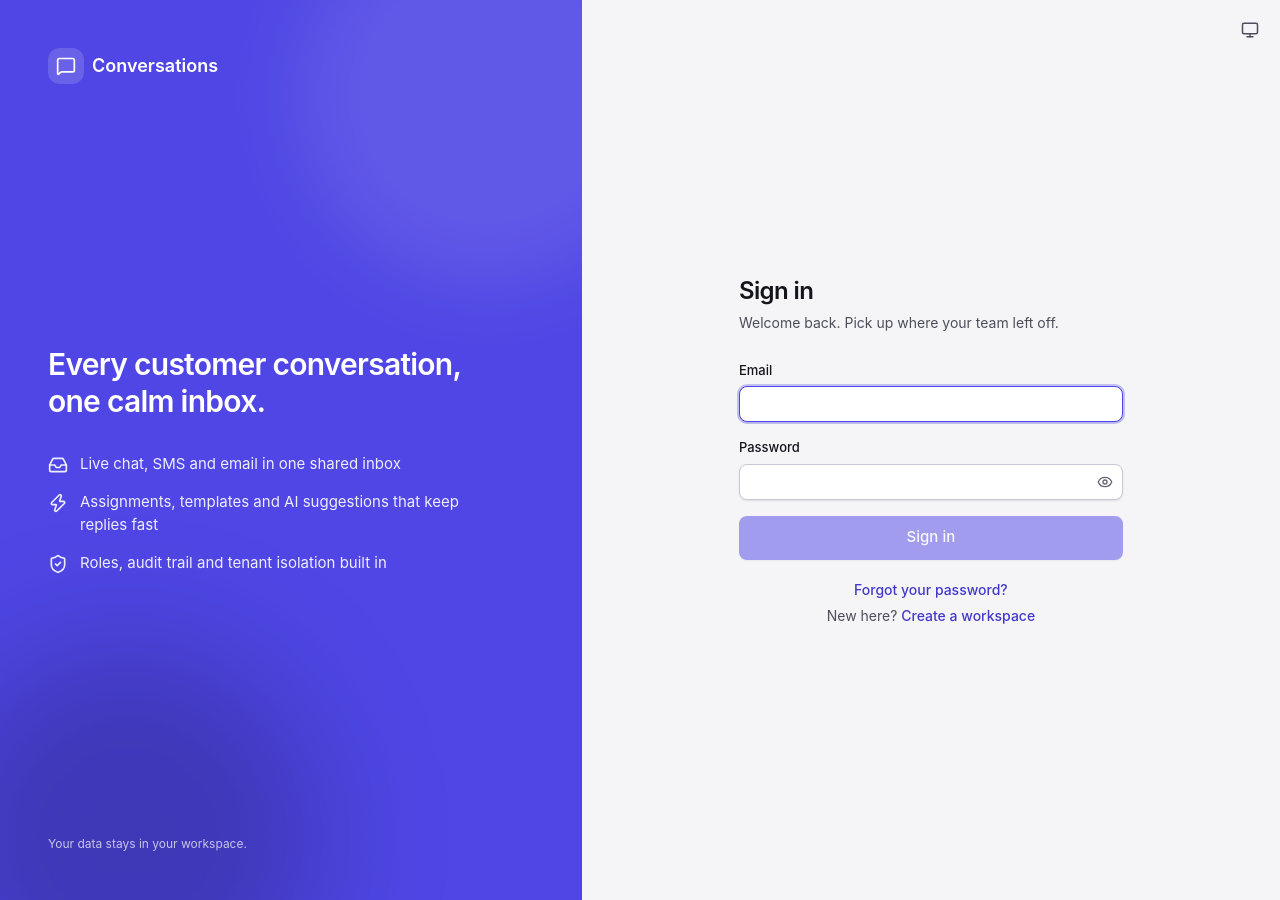
Test: LoginPage › shows the server's error message when credentials are rejected
The image size is (1280, 900).
Step 1. Type "ada@example.test" into the field labelled "Email" → (931, 404), box [739,386,1123,422]
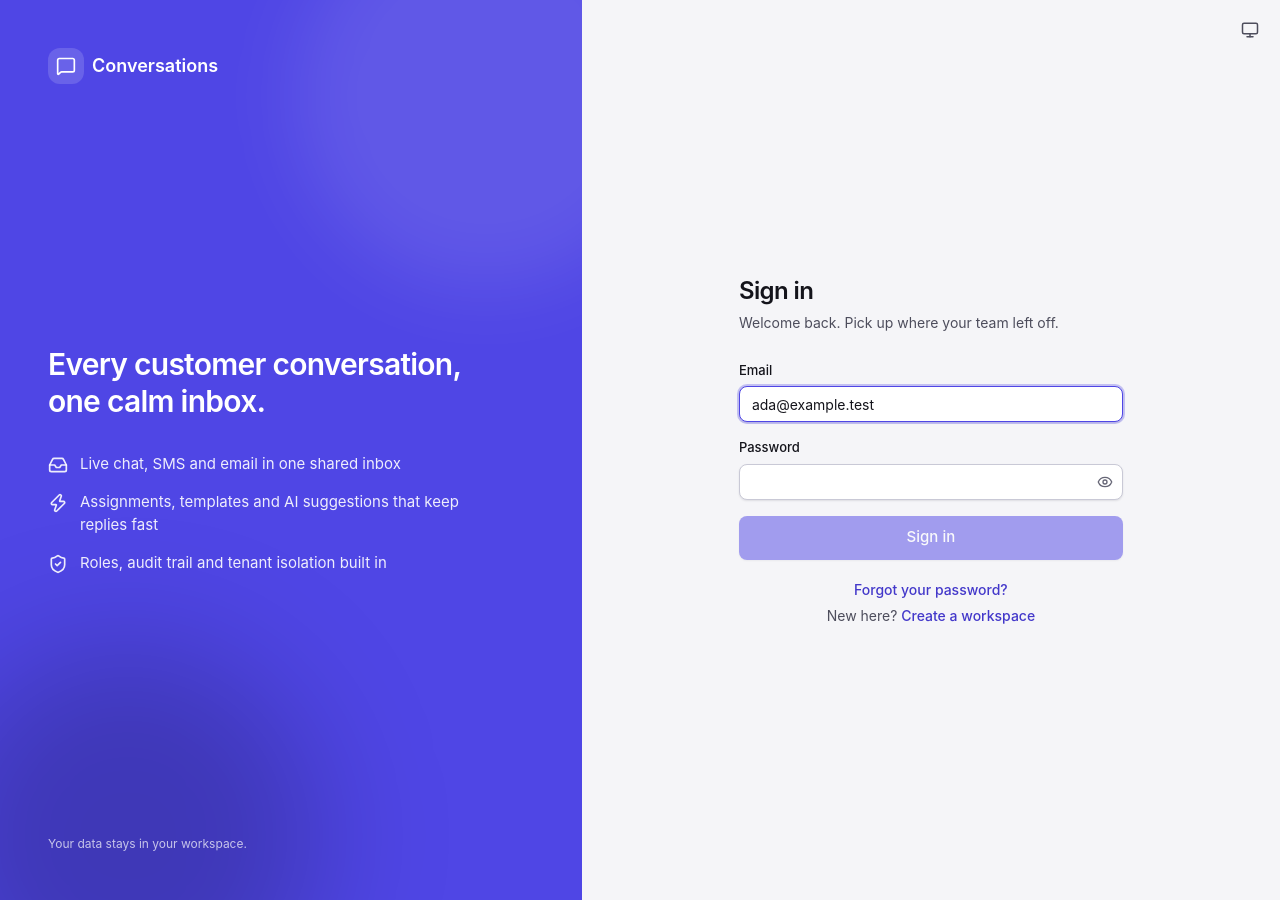
Step 2. Type "wrong" into the password field labelled "Password" → (931, 482), box [739,464,1123,500]
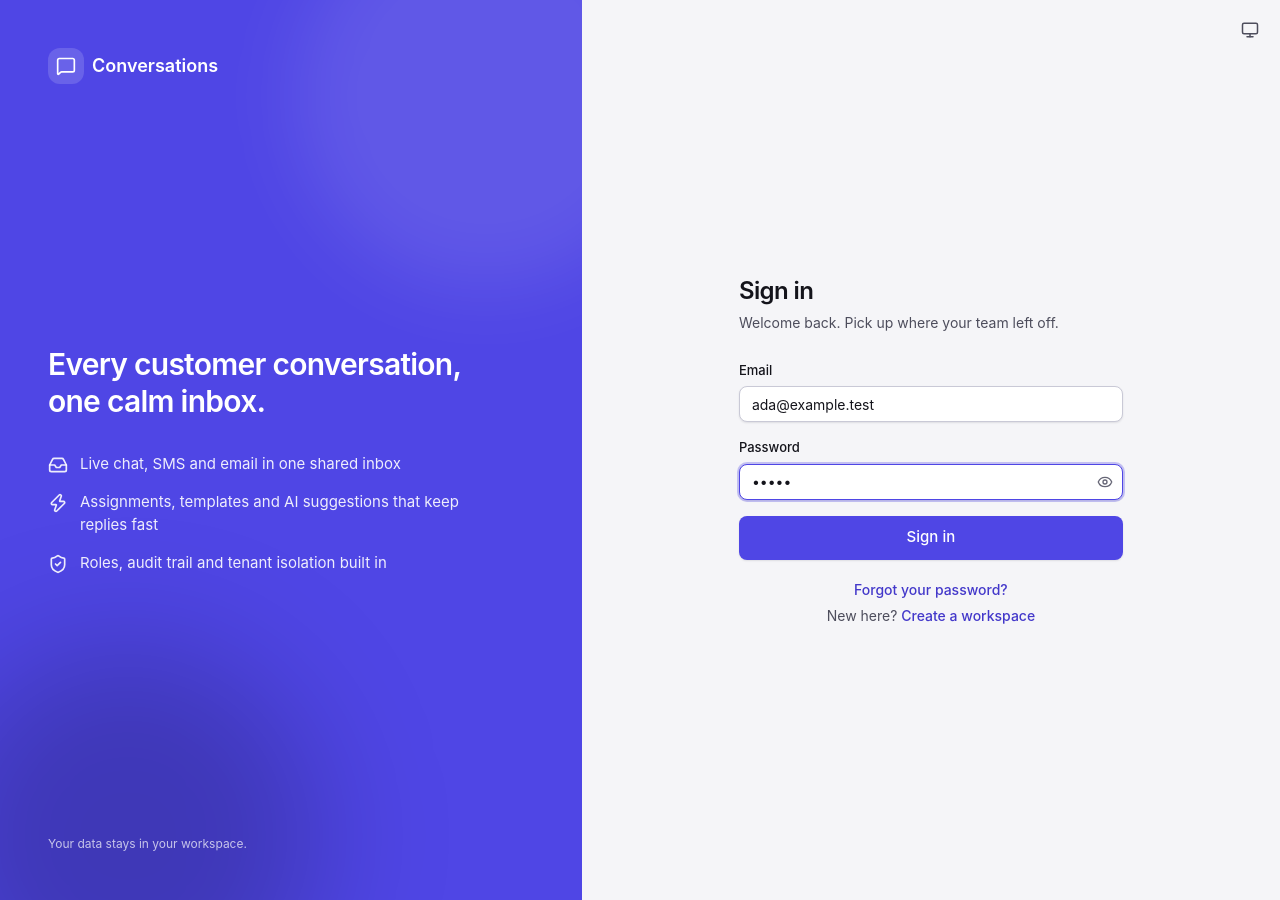
Step 3. Click the button "Sign in" → (931, 538), box [739,516,1123,560]
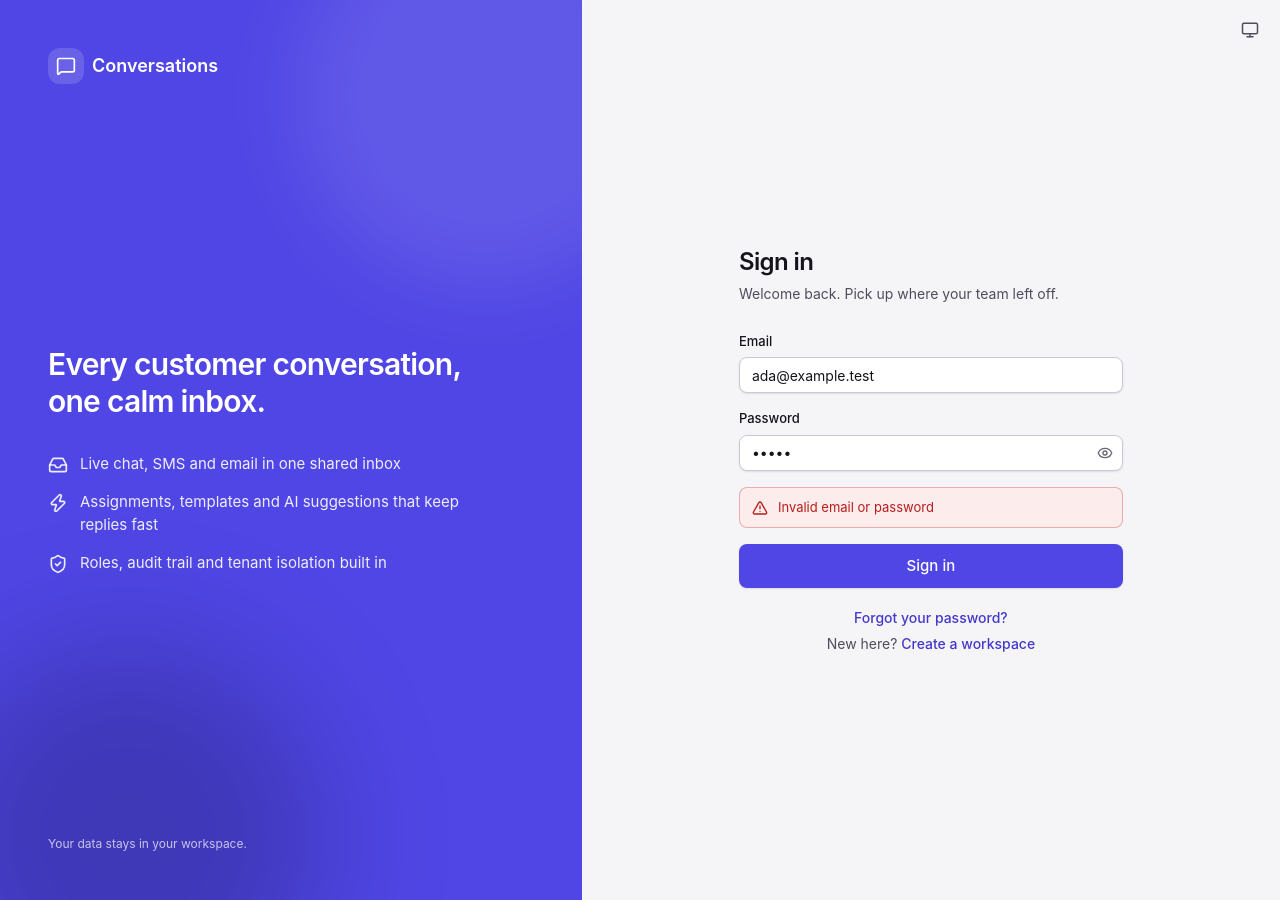
Result: the message reads "Invalid email or password" at [778,499,934,515]
